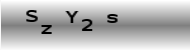2: (80, 18, 93, 31)
S: (24, 9, 39, 22)
Y: (63, 9, 79, 24)
s: (105, 13, 119, 24)
z: (40, 24, 53, 35)
